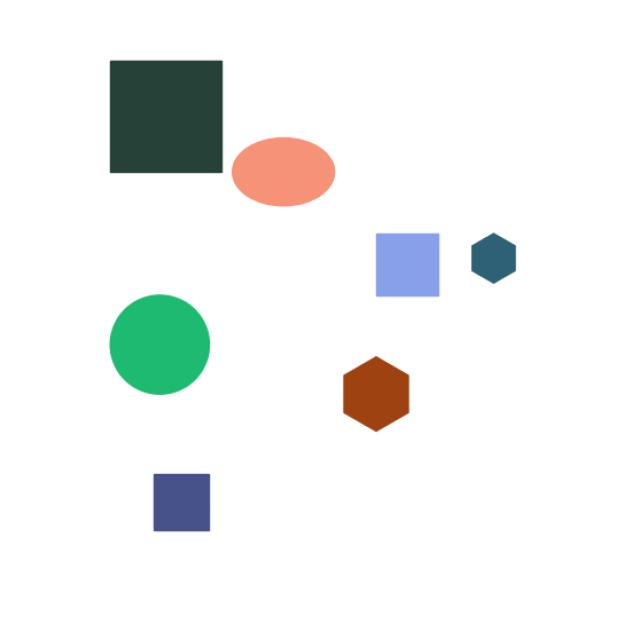Circle: (90, 288, 224, 409)
Hexagon: (318, 349, 426, 445), (457, 218, 535, 306)
Oval: (211, 135, 361, 216)
square: (92, 53, 242, 190), (360, 222, 456, 309), (139, 467, 229, 558)
